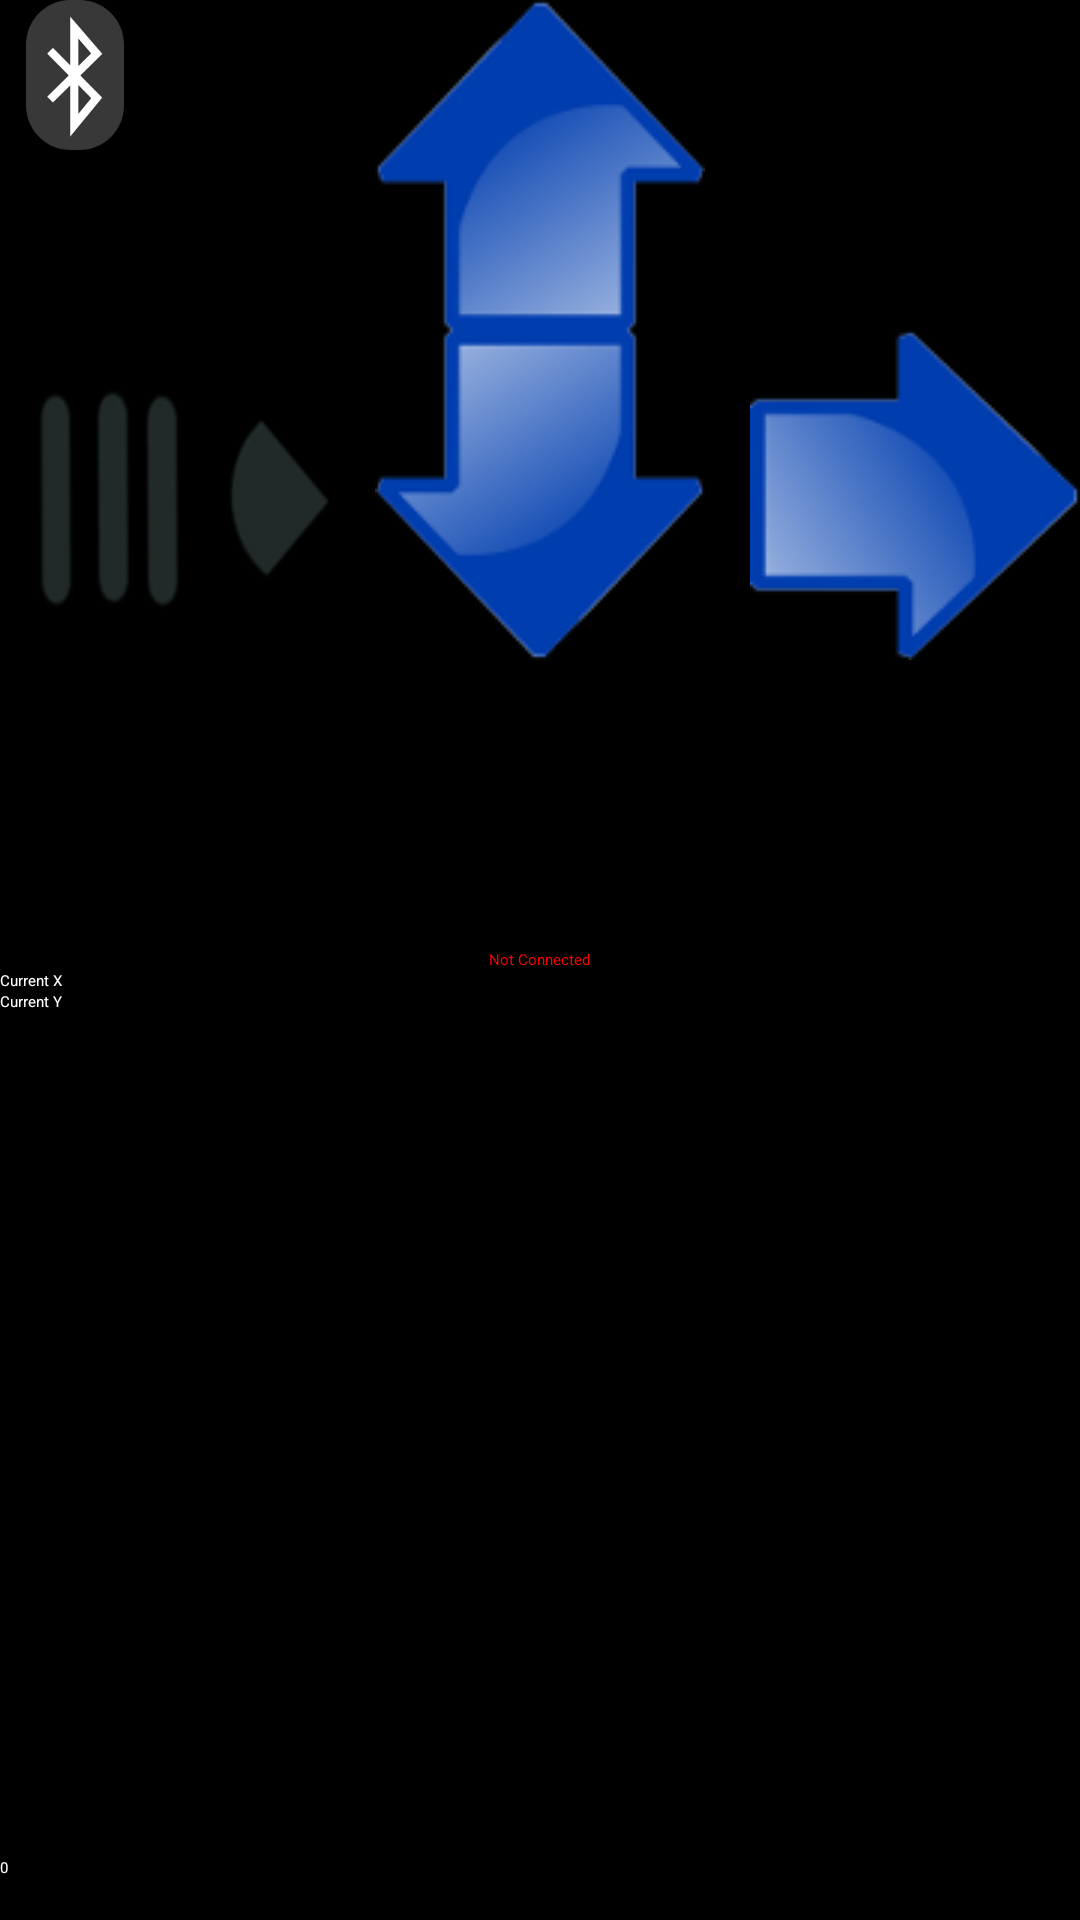

Named icons in this screenshot (1080px x 1920px) and their bounding boxes, (x1, y1, x2, y2):
down: (375, 330, 703, 658)
right: (750, 332, 1078, 660)
